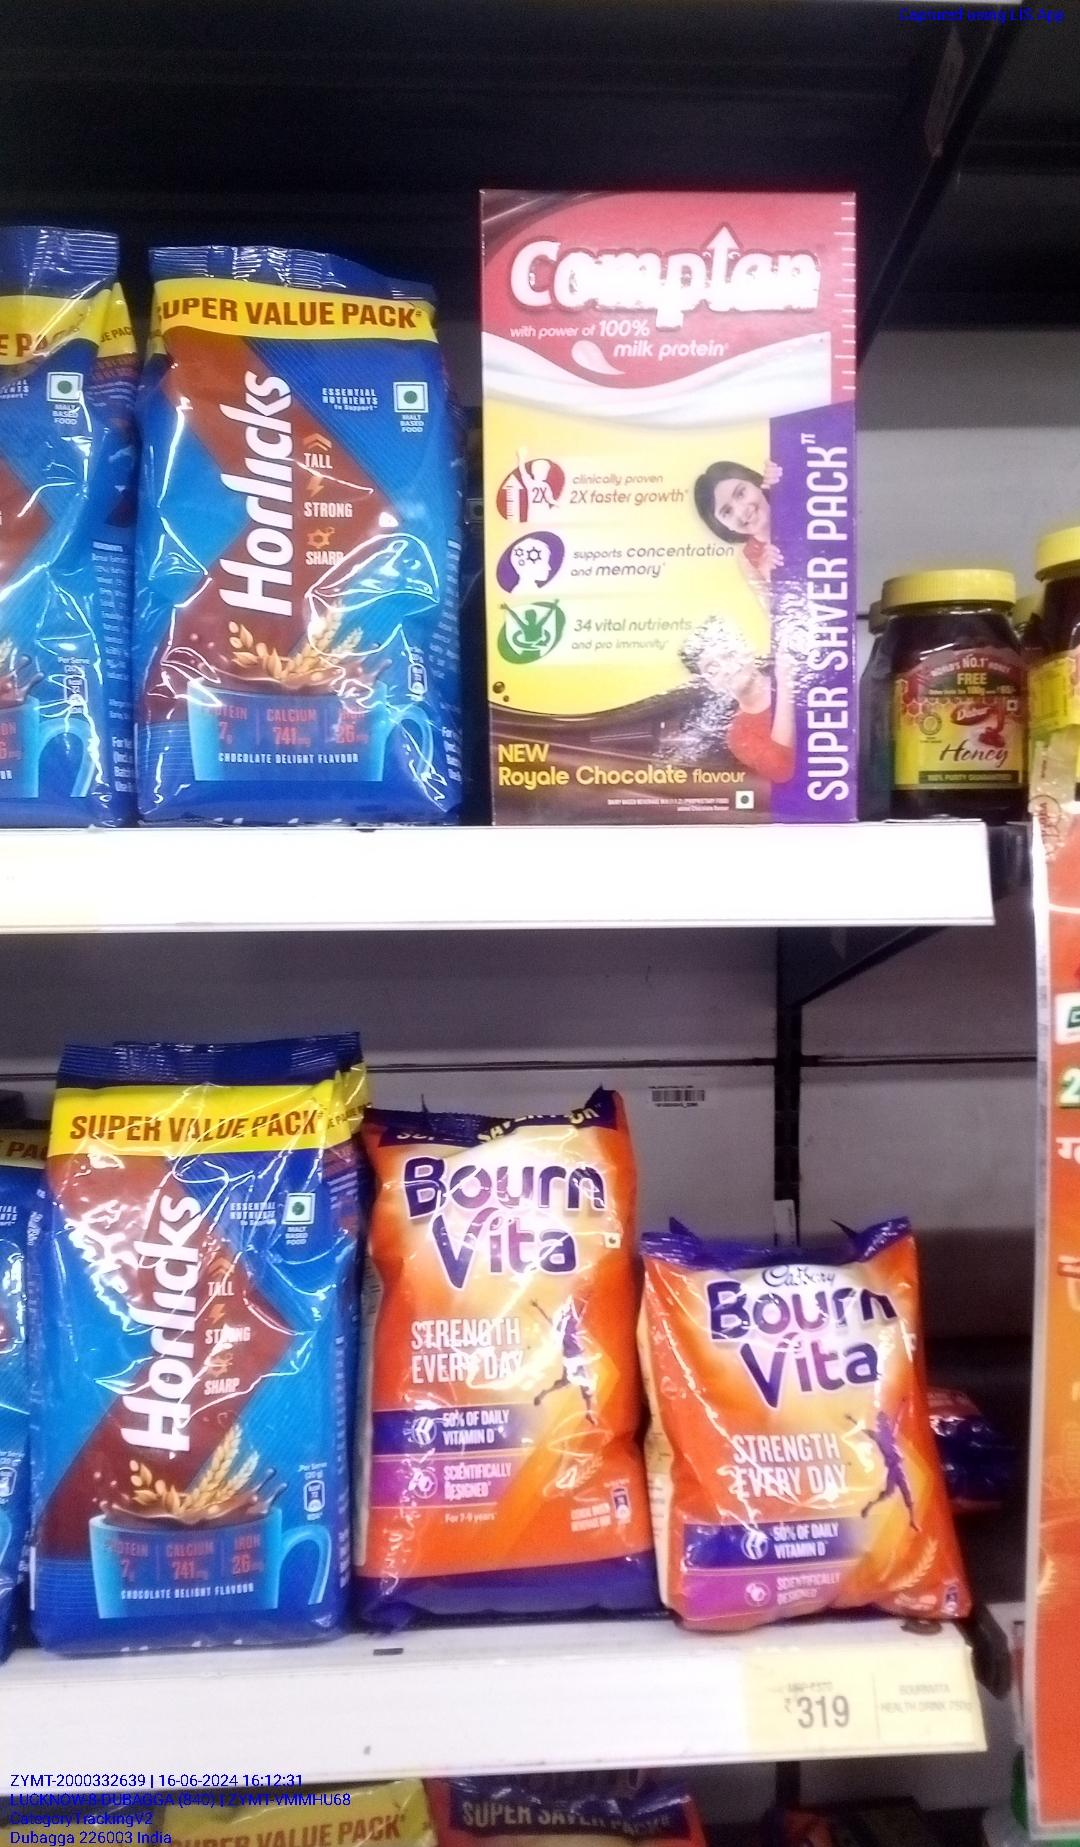BOURN_VITA_1_KG_POUCH: (372, 1093, 644, 1625)
BOURN_VITA_750_G_POUCH: (665, 1236, 955, 1614)
COMPLAN_CHOCOLATE_1_KG_PACK: (491, 177, 854, 817)
HORLICK_CHOCOLATE_750_G_POUCH: (49, 1030, 343, 1655), (147, 236, 453, 821)
